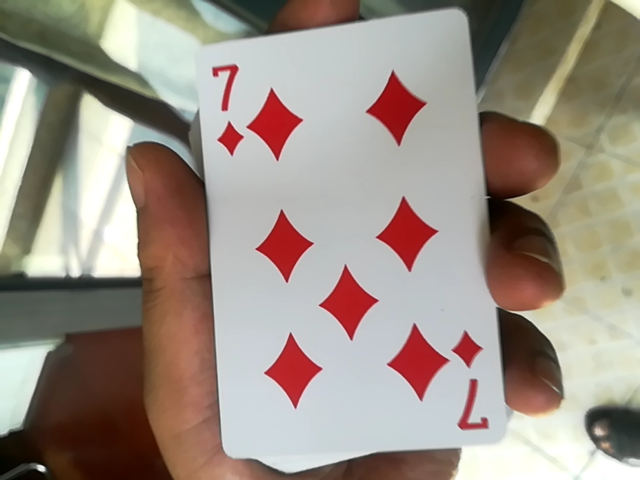fk 7: (188, 16, 496, 462)
